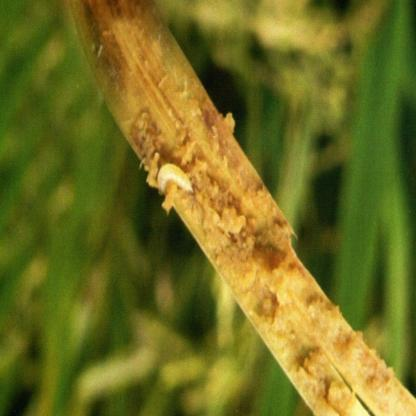whorl-maggot: (151, 154, 196, 206)
